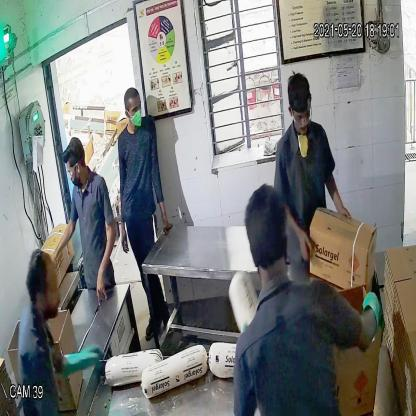goggles: (289, 103, 313, 128)
no_goggles: (124, 101, 143, 116)
